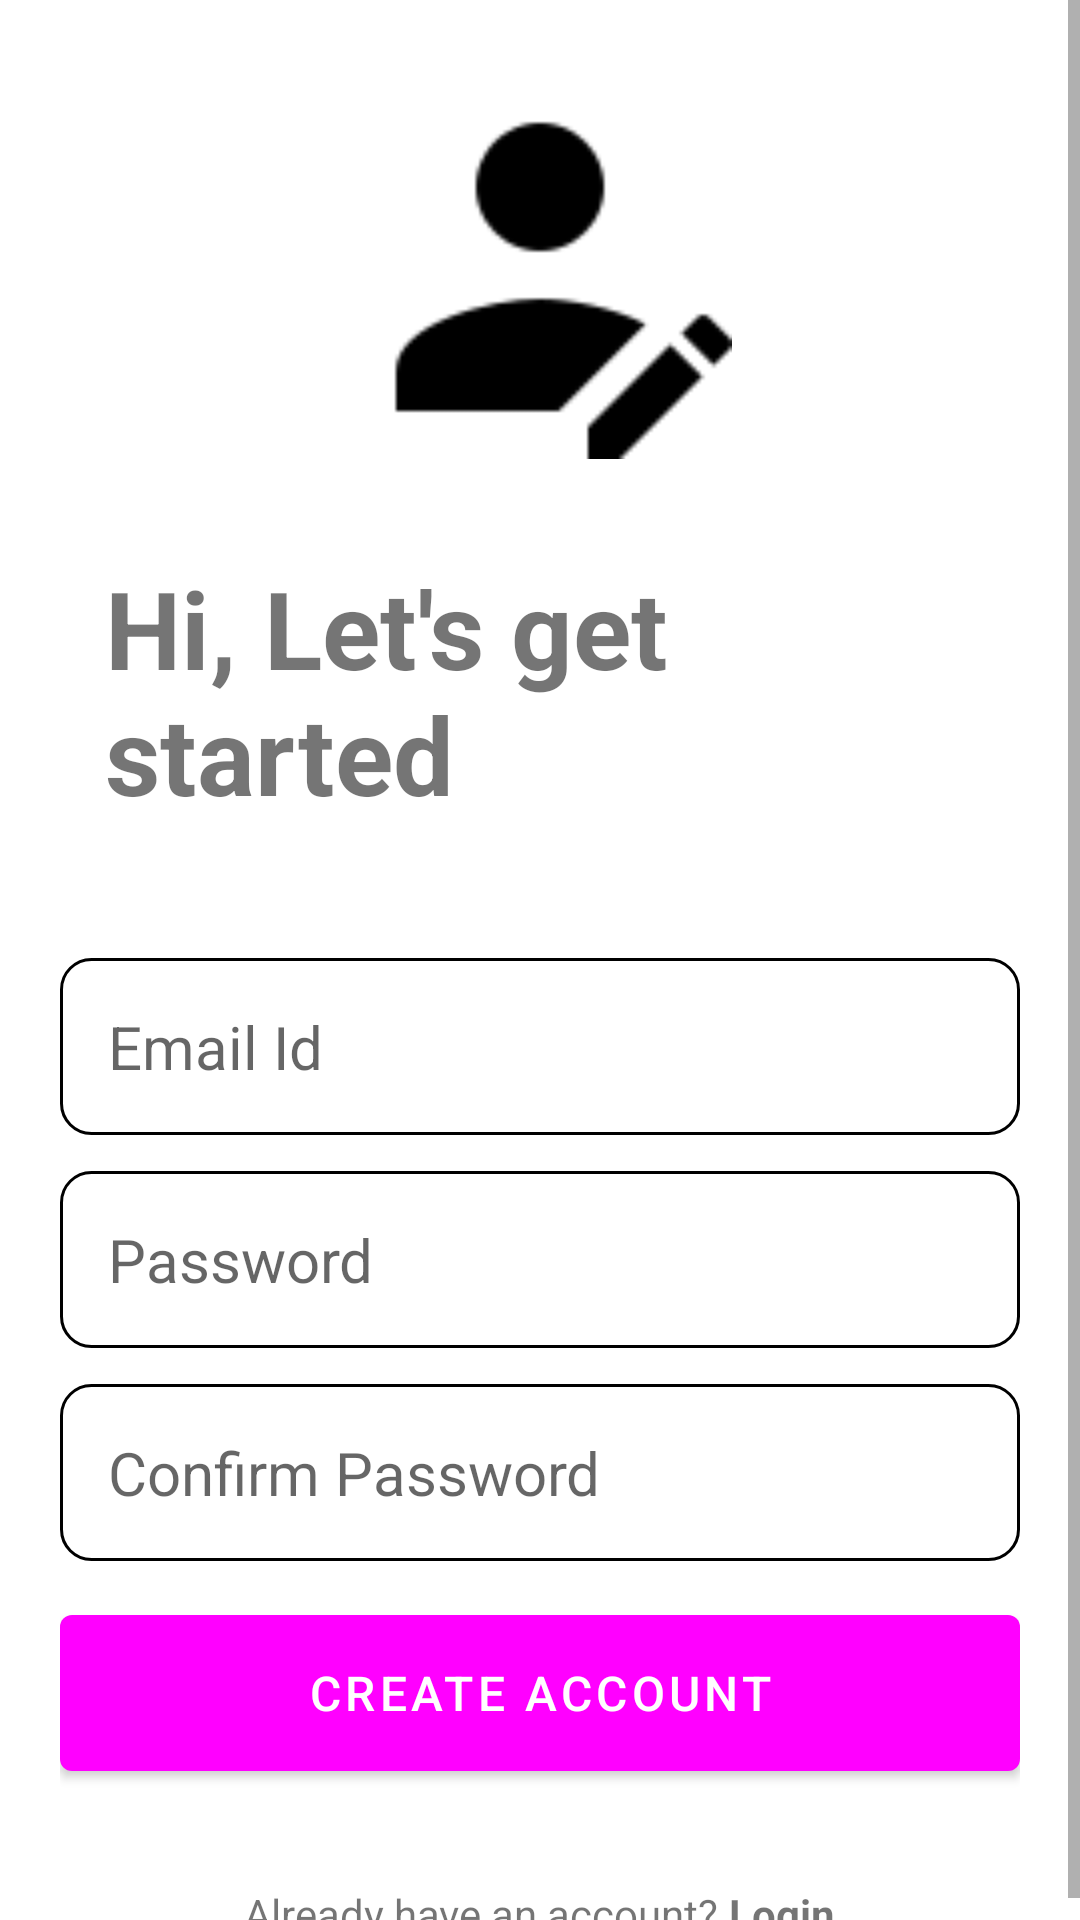

Screen size 1080 x 1920. Icon name, then its center in pixels as [x,y]:
sign up: [563,290]
